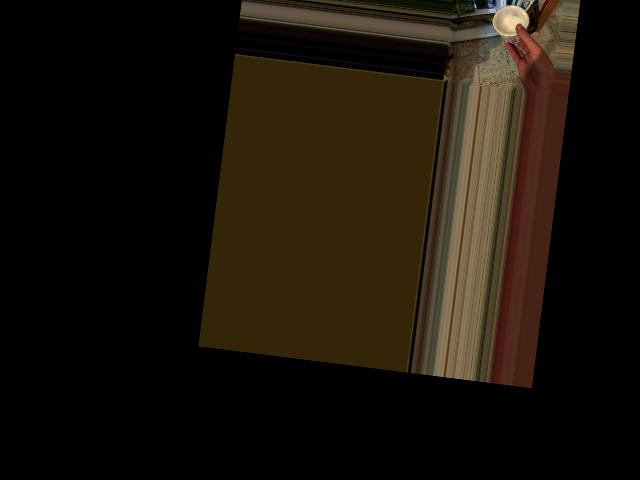cotage: (497, 2, 533, 45)
